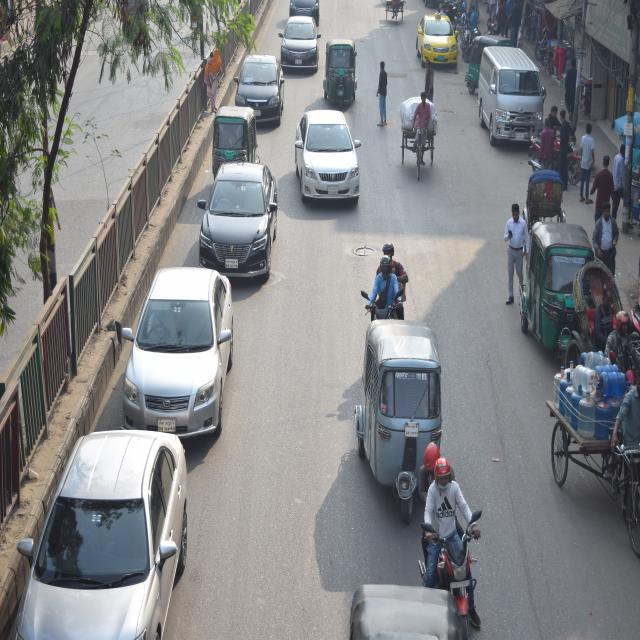car: (18, 423, 178, 622), (119, 217, 226, 452), (200, 156, 275, 294), (297, 99, 357, 211), (232, 52, 283, 131), (412, 4, 462, 78), (283, 16, 318, 74)
microbus: (475, 40, 549, 157)
motorbike: (369, 248, 415, 317)
